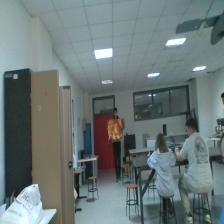fire-poster: (108, 119, 123, 140)
